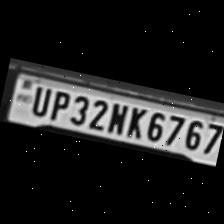2: (84, 94, 109, 132)
3: (64, 90, 90, 127)
6: (178, 114, 205, 152), (139, 105, 166, 142)
7: (160, 110, 184, 148), (198, 119, 222, 157)
H: (102, 98, 130, 136)
K: (122, 102, 147, 140)
P: (44, 86, 70, 122)
U: (24, 81, 52, 118)
